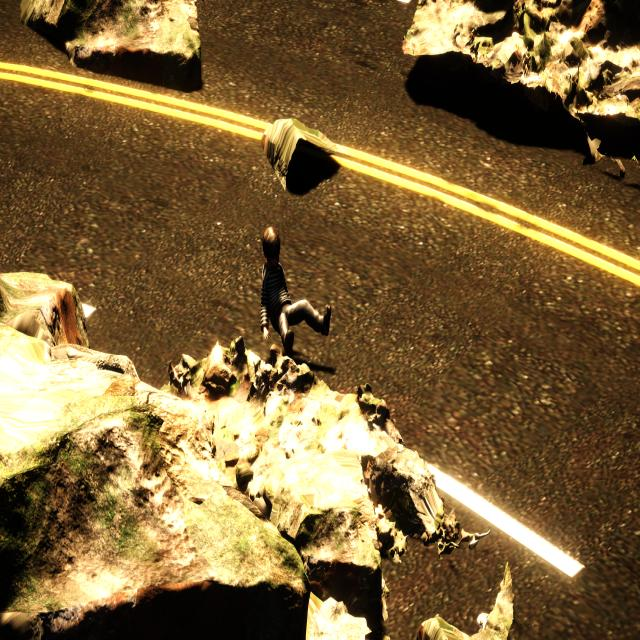Human: (253, 222, 333, 355)
